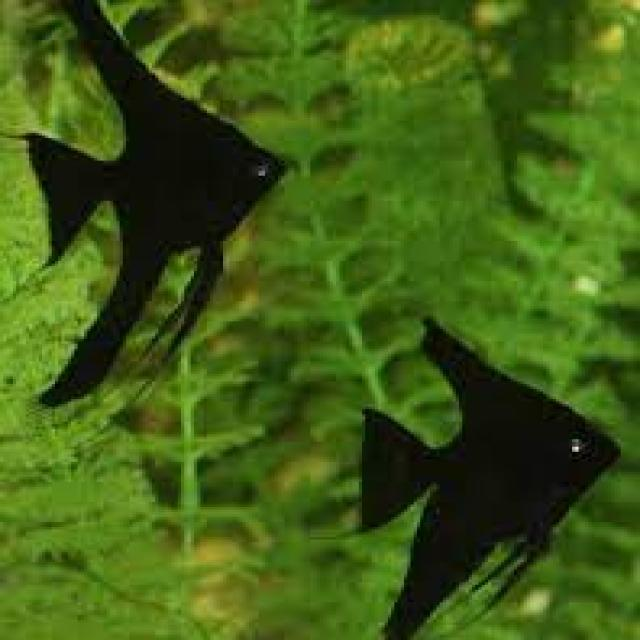AngelFish: (19, 0, 288, 402), (365, 312, 620, 636)
